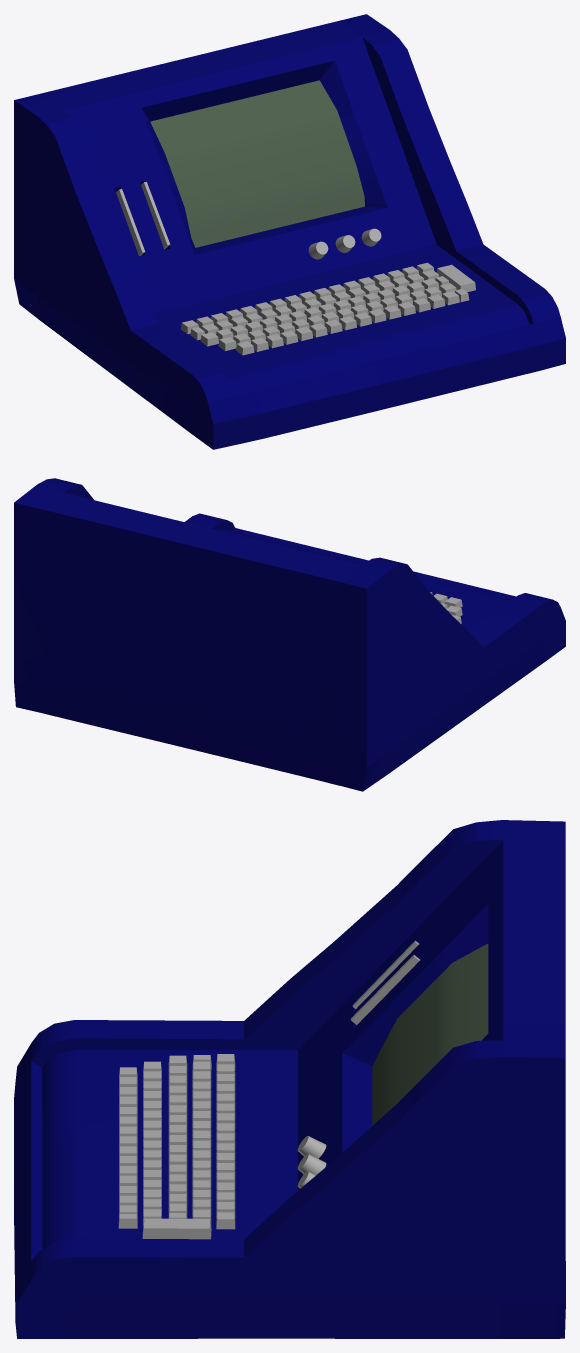
Rendered from Table 1.fbx.
The picture shows the model from 3 angles, top to bottom: view 1: azimuth 30°, elevation 25°; view 2: azimuth 150°, elevation 25°; view 3: azimuth 270°, elevation 25°; orthographic projection. The views are drawn at different scales.
Parts seen in each view (by area): view 1: polySurface5; view 2: polySurface5; view 3: polySurface5.
Boxes of the visible parts, x1,y1,x2,y2 form: polySurface5: [14, 14, 565, 449]; polySurface5: [14, 478, 565, 791]; polySurface5: [14, 820, 565, 1338].
Size of the model in its own units: 10.68 by 5.96 by 10.51.
